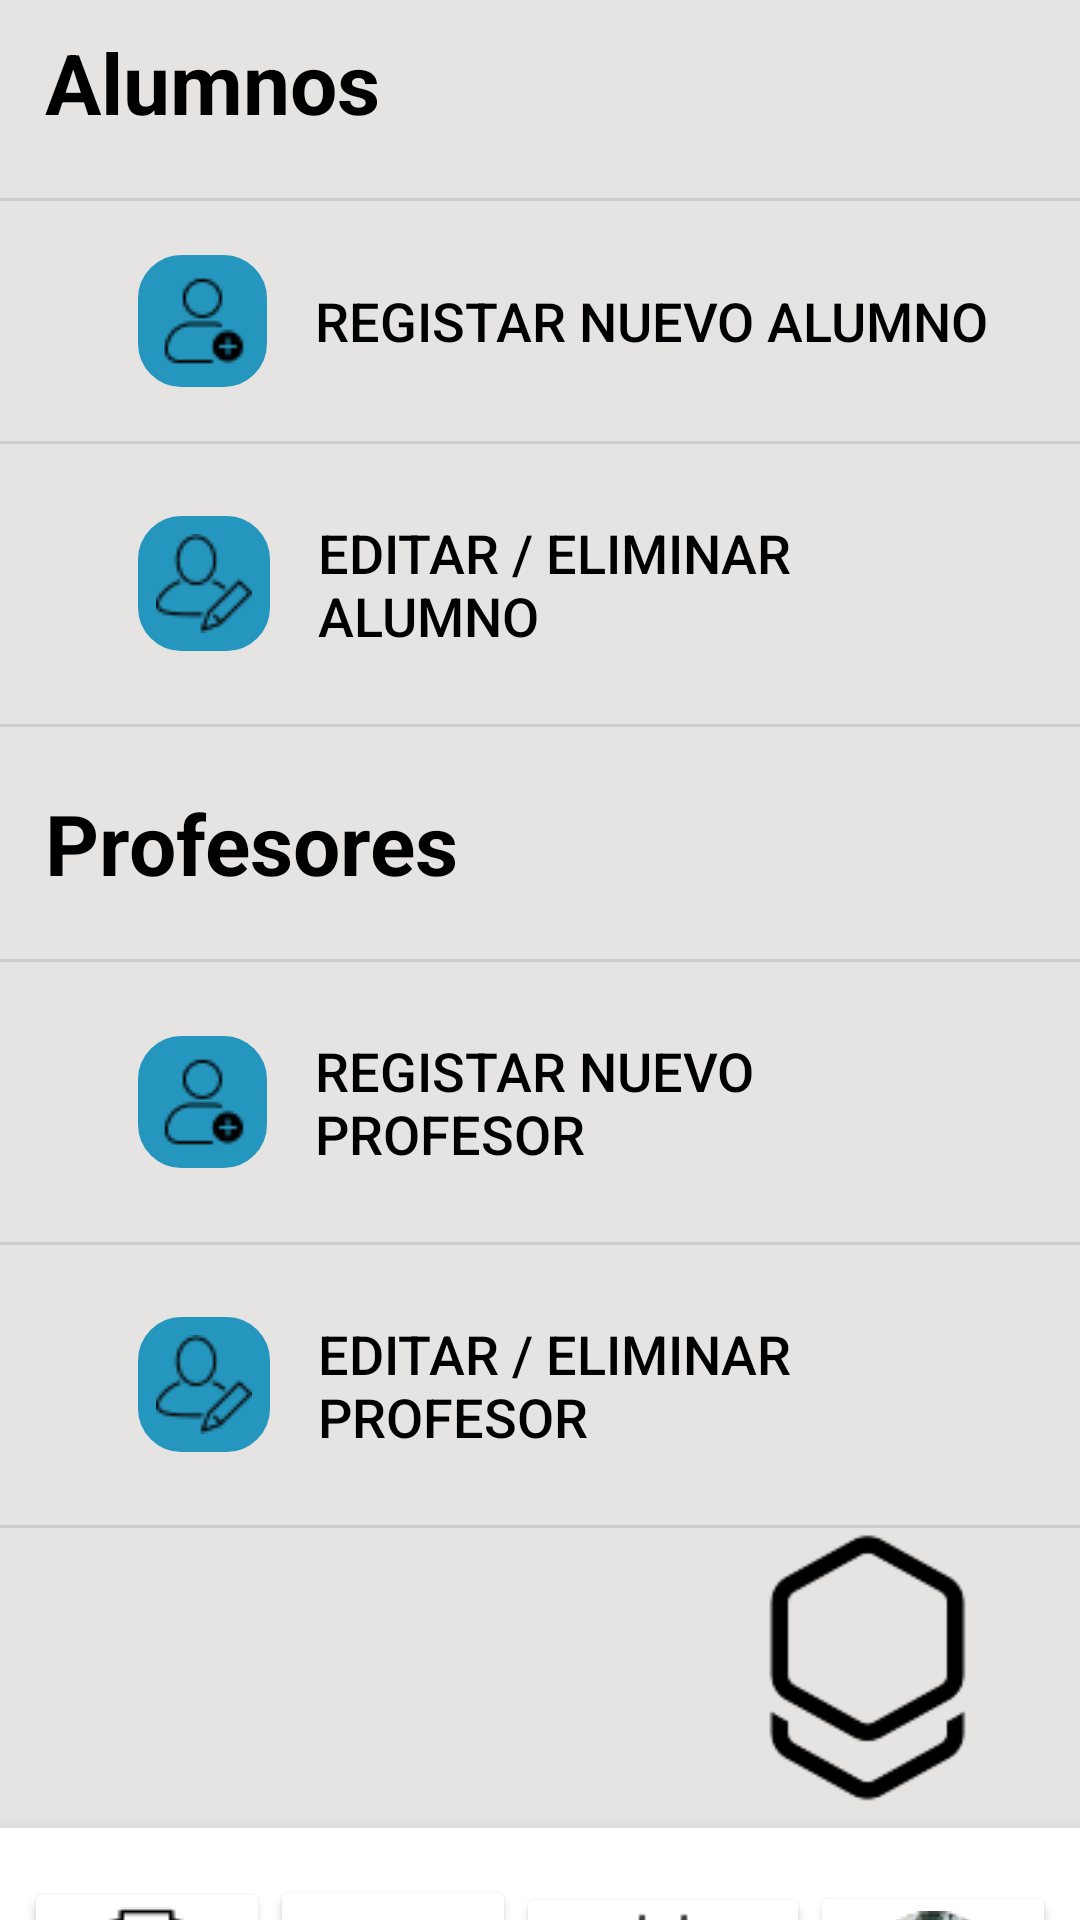

Icon bounding boxes for this 1080px×1920px phone screenshot, format BBox(x1, y1, x2, y2):
editar registro: BBox(138, 516, 270, 651), BBox(138, 1317, 270, 1452)
nuevo registro: BBox(138, 255, 267, 387), BBox(138, 1036, 267, 1168)
